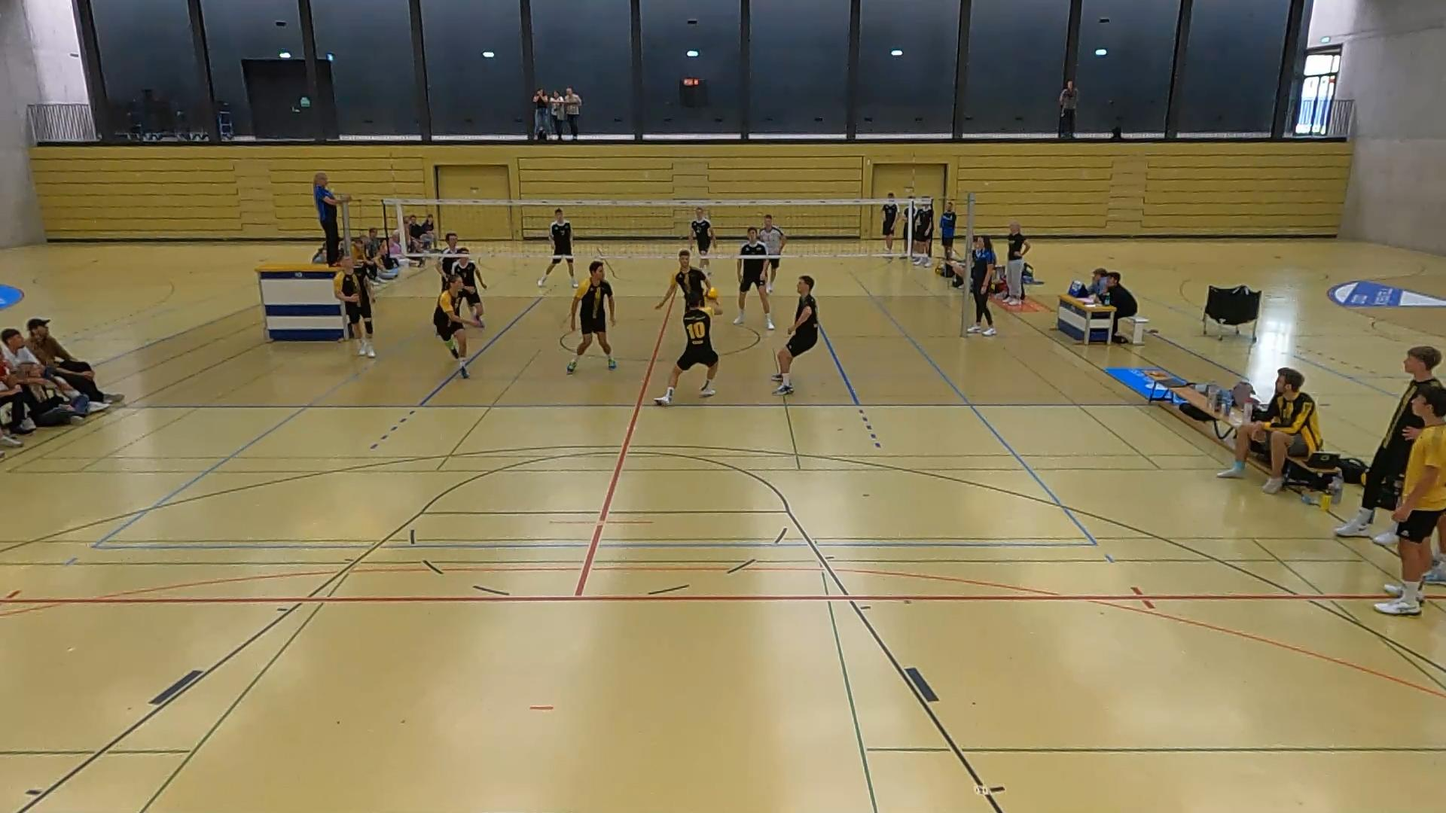Dig: (654, 287, 725, 408)
Player: (566, 260, 616, 374), (773, 276, 818, 395), (433, 275, 480, 377), (334, 256, 375, 358), (733, 227, 773, 330), (538, 208, 578, 288), (655, 250, 709, 309), (452, 247, 486, 326), (759, 215, 786, 293), (690, 207, 713, 272), (438, 232, 461, 288)
ball: (703, 284, 721, 303)
